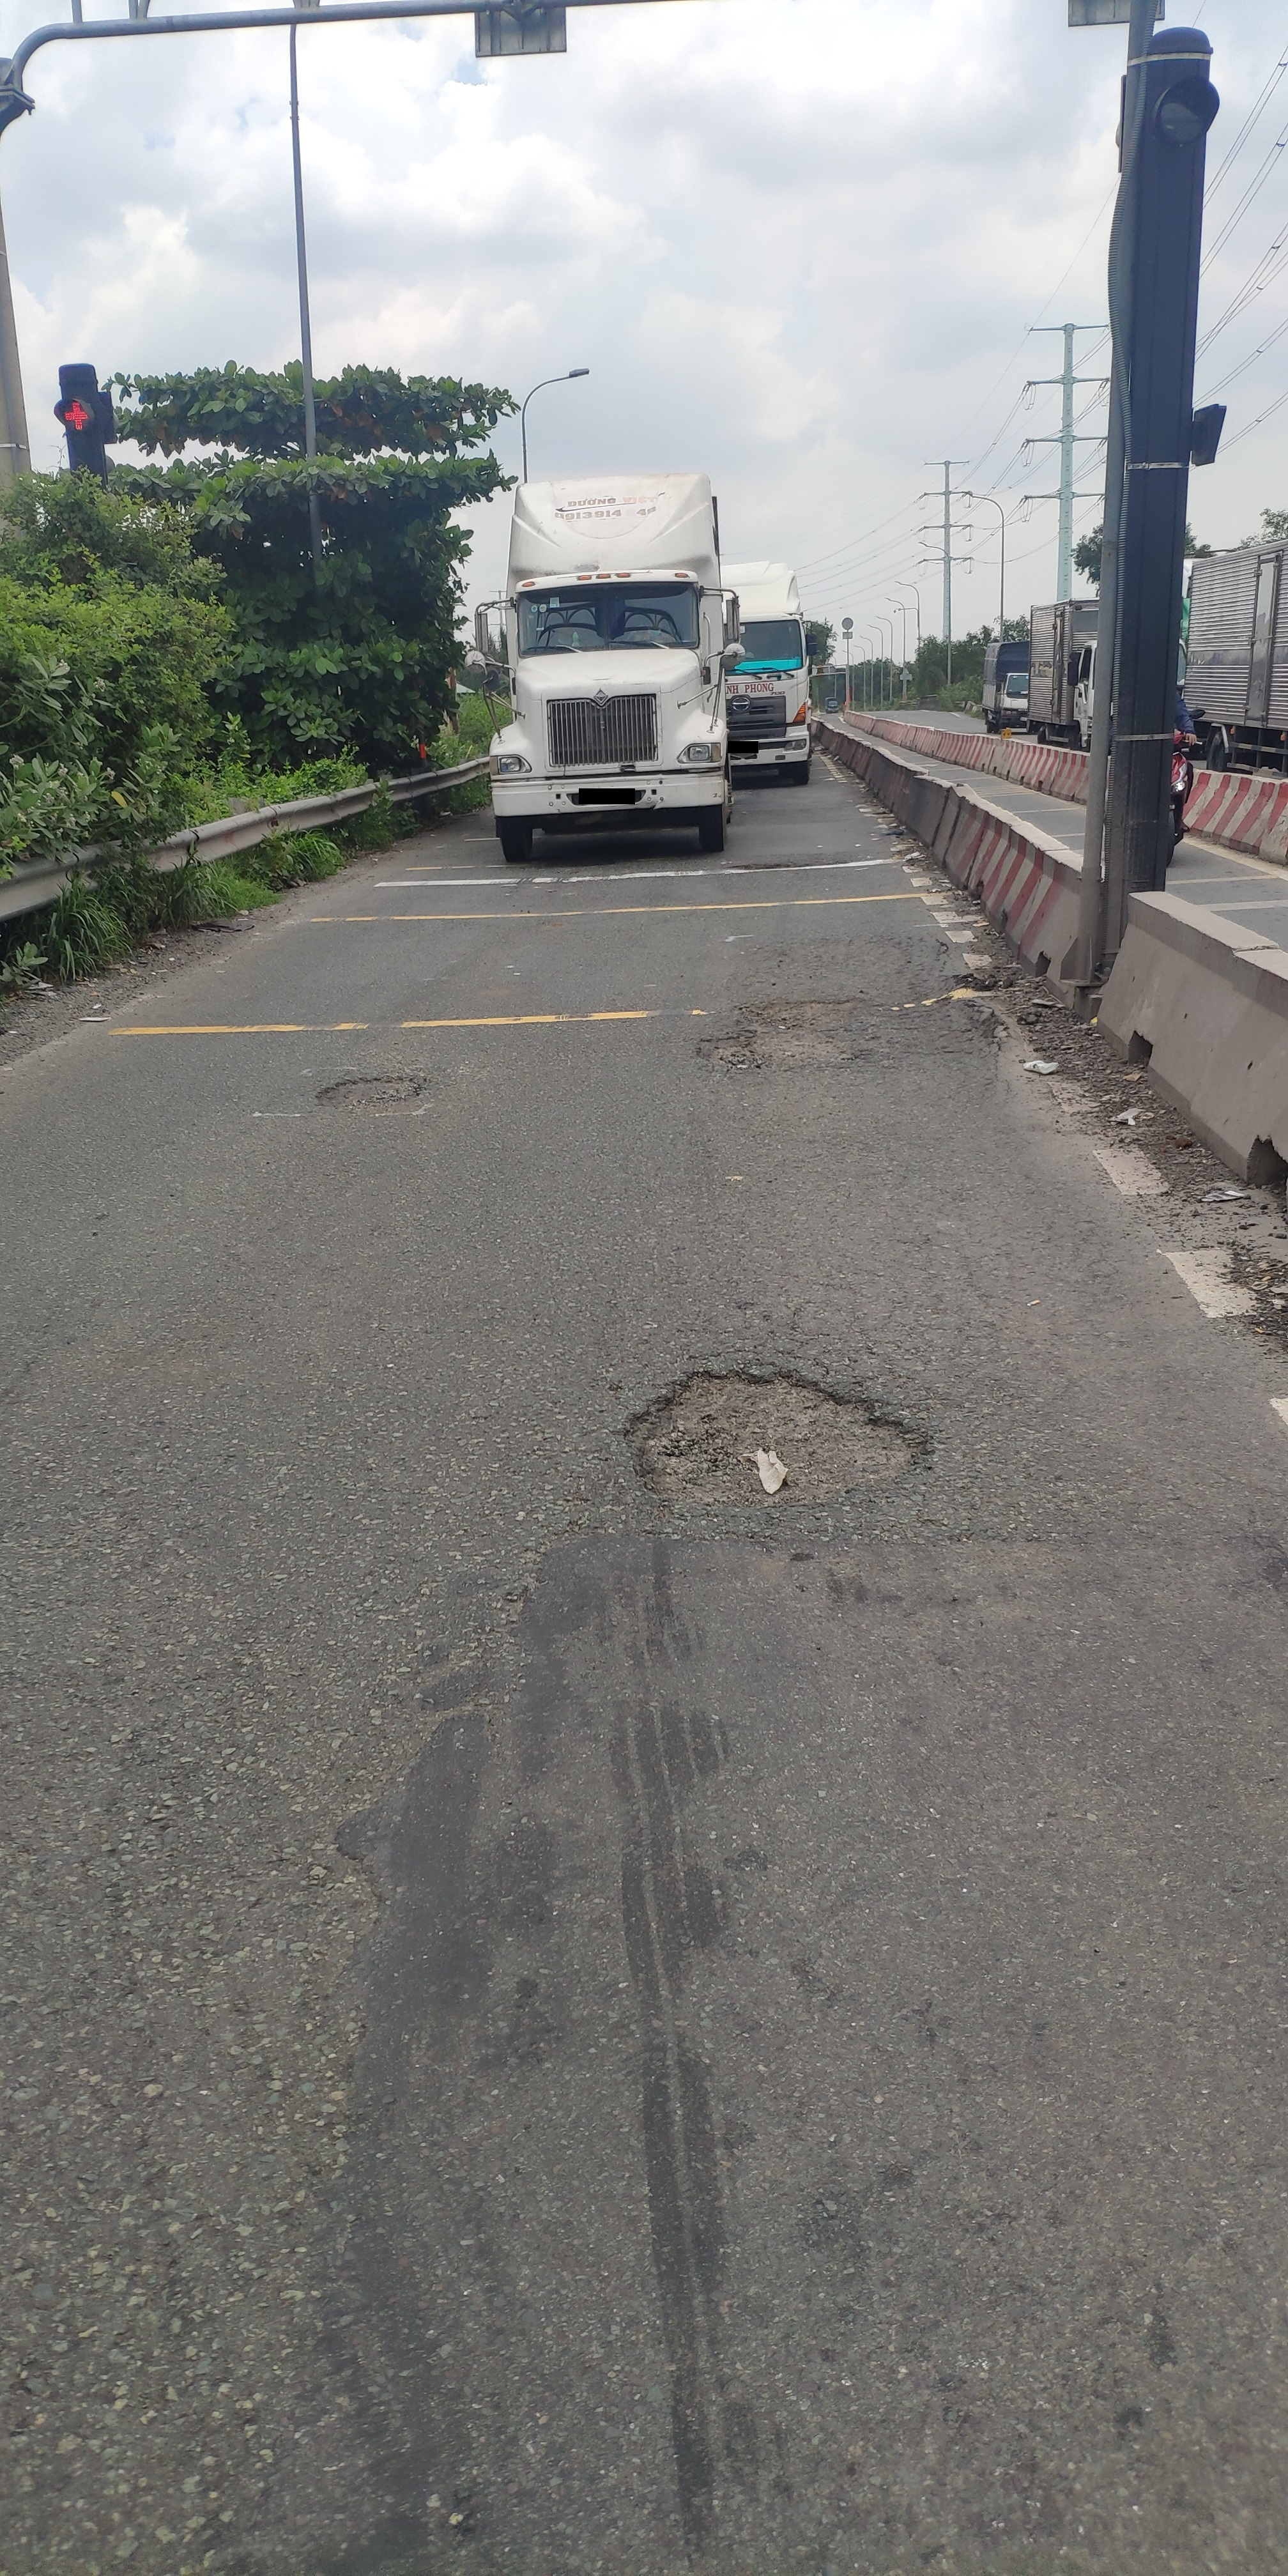hole: (611, 1357, 953, 1556), (678, 992, 927, 1086), (314, 1066, 430, 1120)
